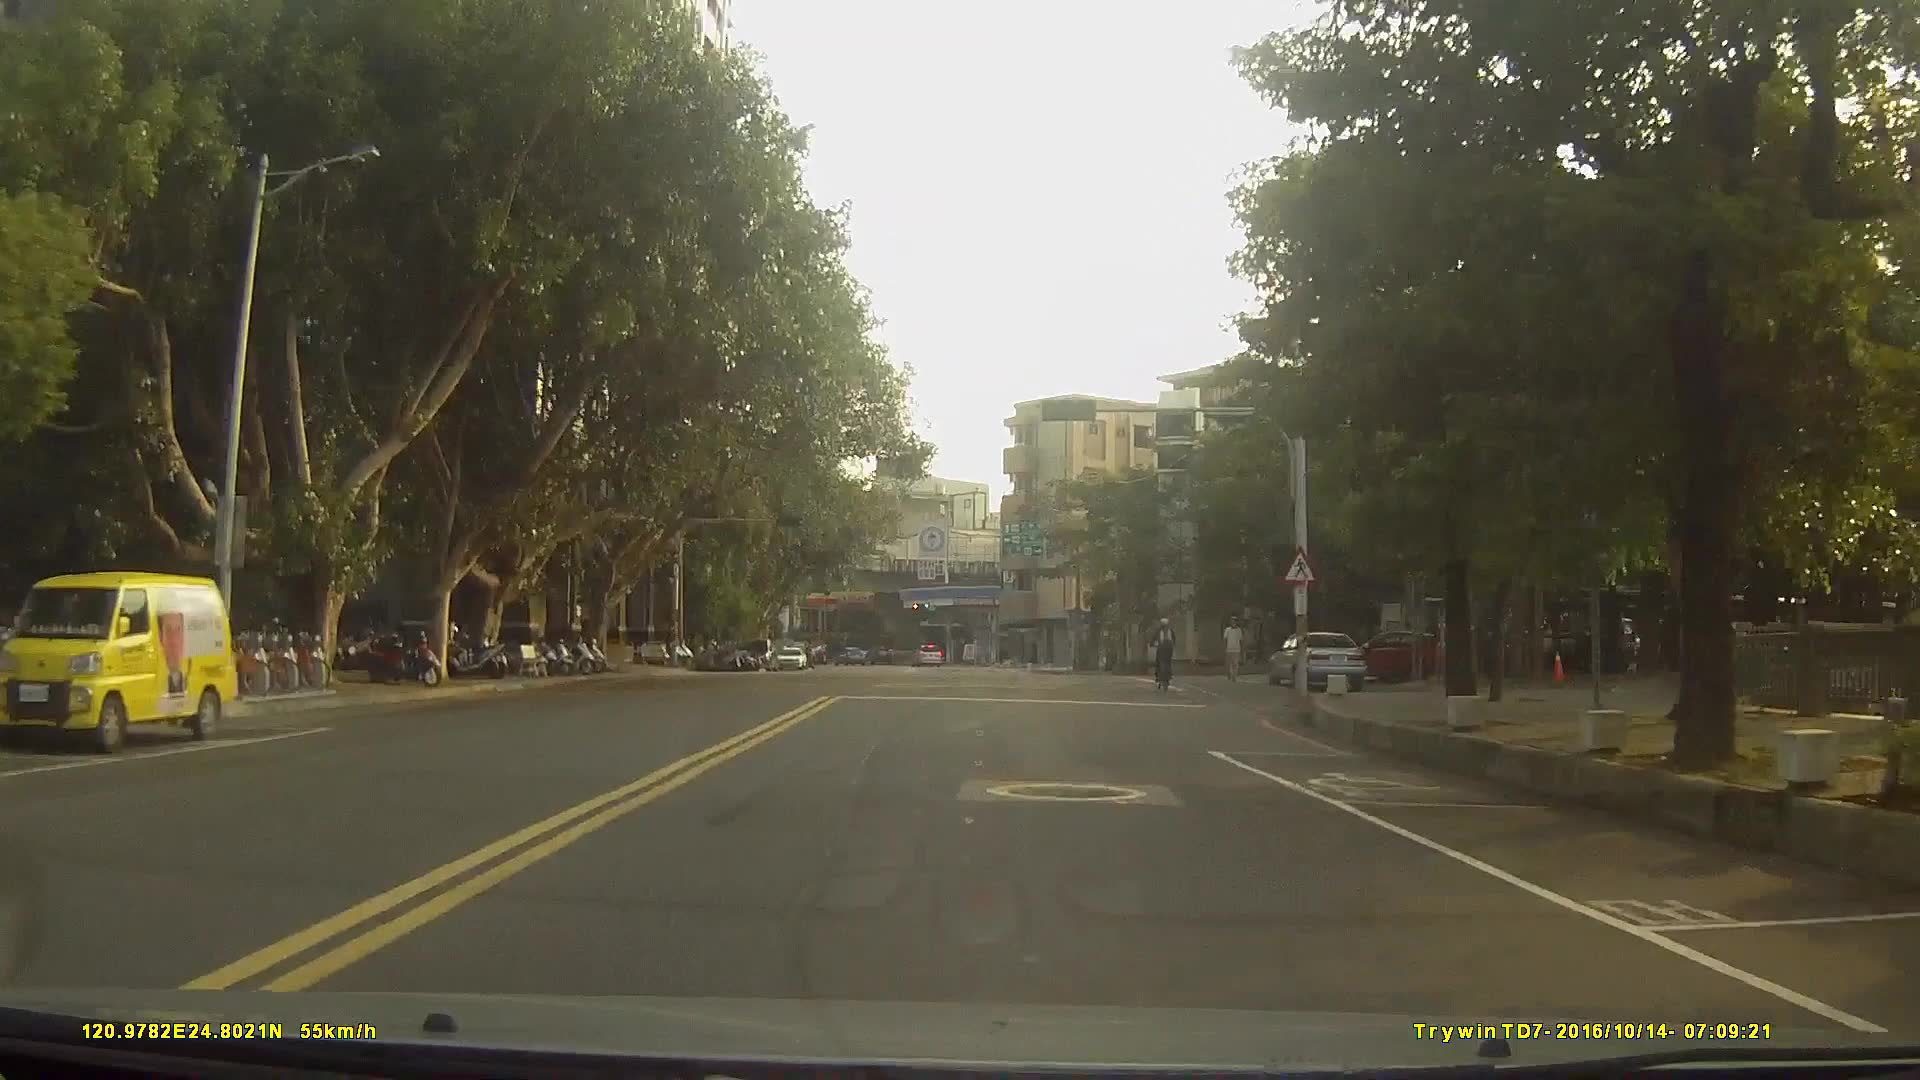pedestrian: (1220, 613, 1250, 686)
rider: (1153, 616, 1182, 692)
vehicle: (1339, 625, 1441, 684), (1265, 631, 1365, 692), (909, 641, 942, 665), (775, 644, 806, 668)
